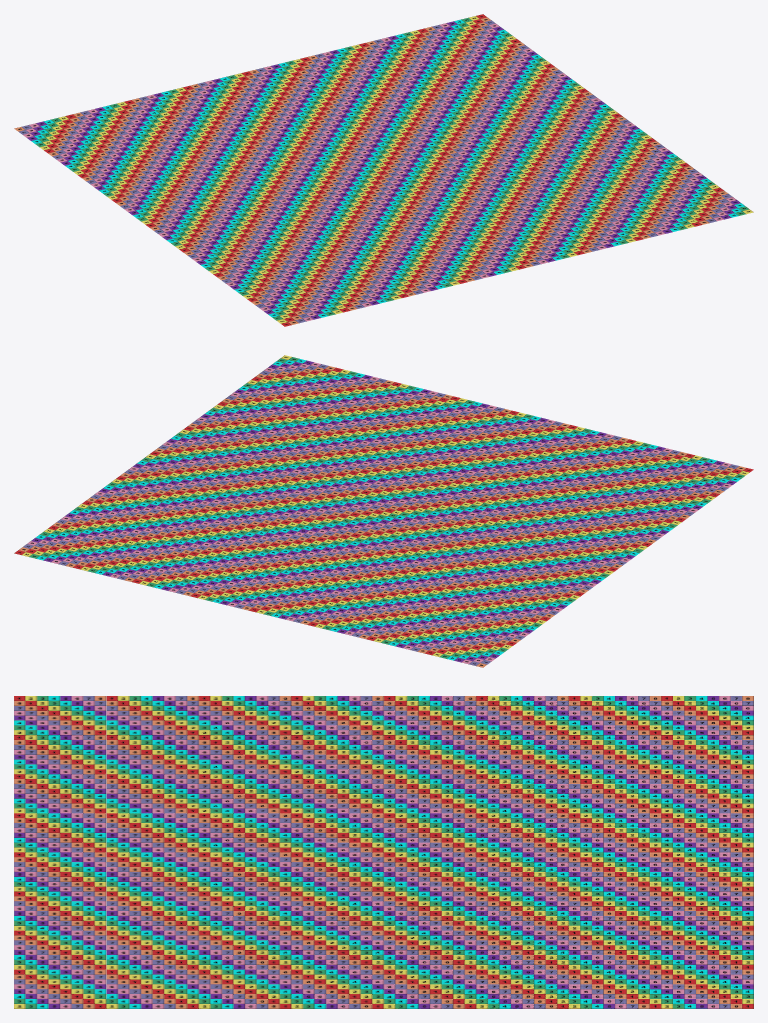
Rendered from watertess_left_edge.fbx.
The picture shows the model from 3 angles, top to bottom: view 1: azimuth 30°, elevation 25°; view 2: azimuth 150°, elevation 25°; view 3: azimuth 270°, elevation 25°; orthographic projection. The views are drawn at different scales.
Visible parts, largest first — view 1: left_edge_f; view 2: left_edge_f; view 3: left_edge_f.
Boxes of the visible parts, x1=… form: left_edge_f: x1=14, y1=14, x2=753, y2=326; left_edge_f: x1=14, y1=355, x2=753, y2=667; left_edge_f: x1=14, y1=696, x2=753, y2=1008.
Size of the model in its own units: 512 by 8.34e-05 by 512.
